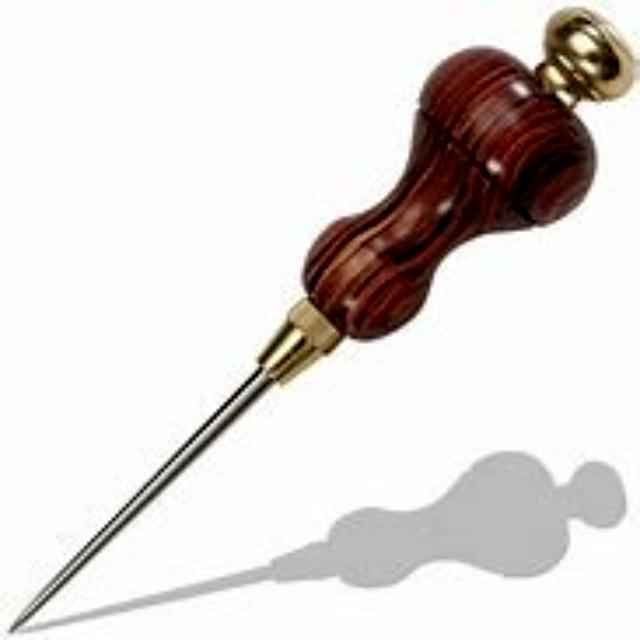ice pick: (6, 0, 640, 640)
